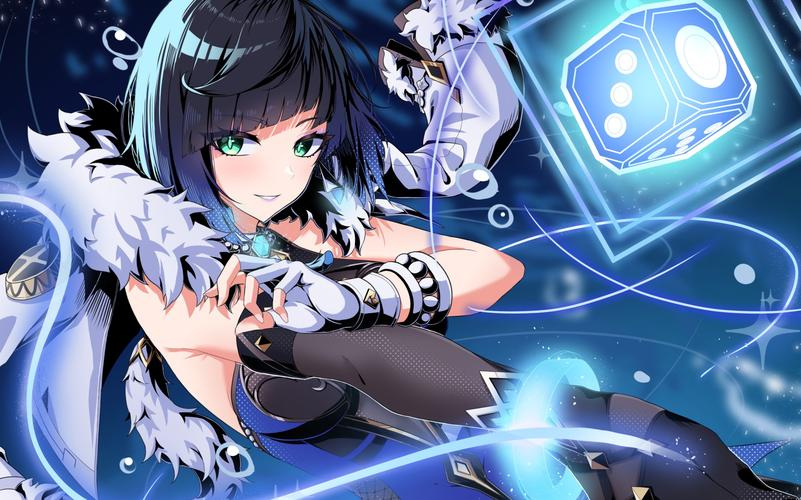夜兰: (108, 2, 790, 500)
